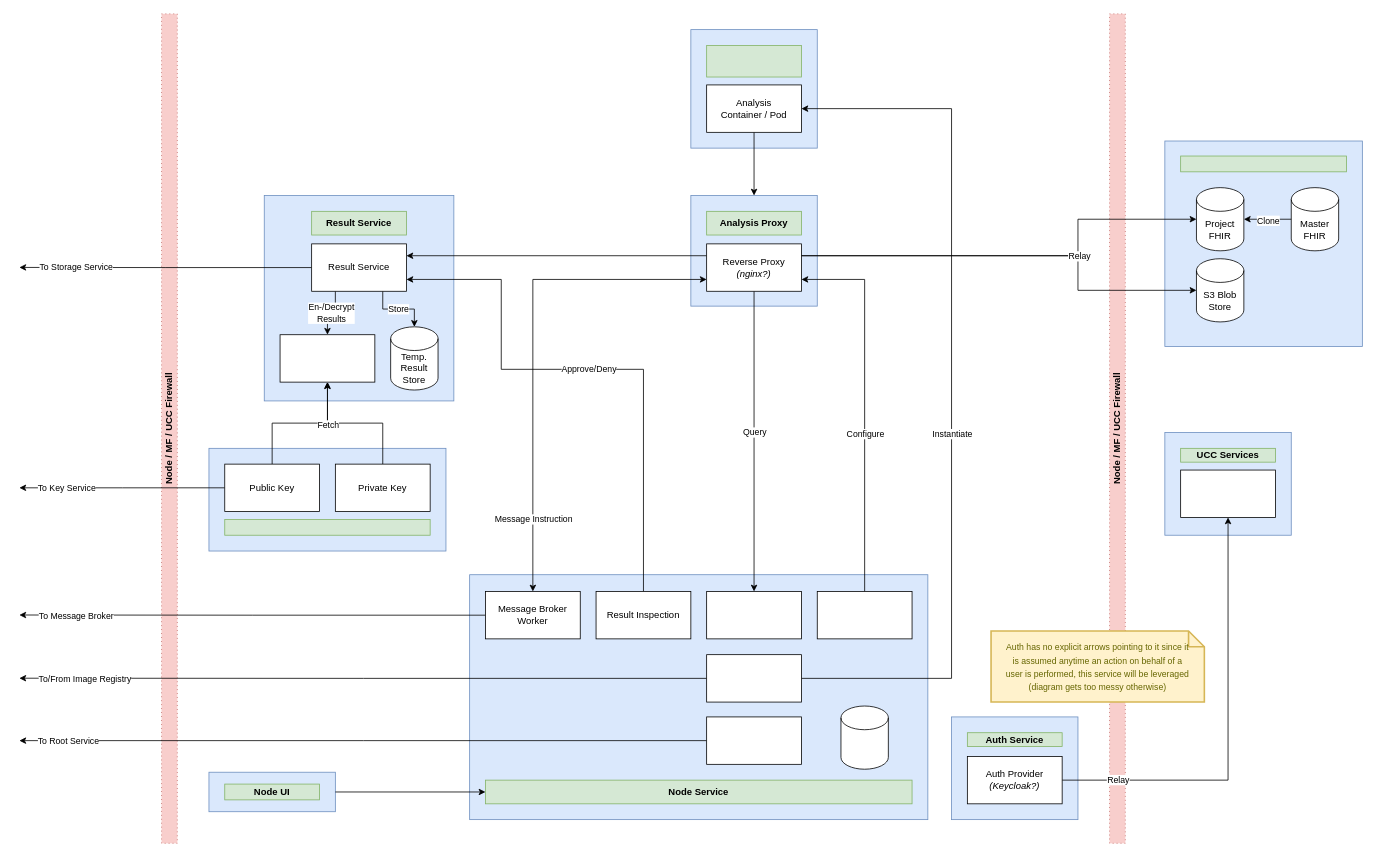
This 1376x857 diagram has some shape labels left out. Each missing label, with the centre of its shape:
"Analysis Runtime" belongs at (753,61).
"Analysis Service (meta information)" belongs at (753,615).
"Auth Provider" belongs at (1227,493).
"Container / Pod Orchestration" belongs at (753,678).
"Data Source Management" belongs at (864,615).
"DIC Services" belongs at (1263,163).
"Node Resources (Analysis ...)" belongs at (753,740).
"Node Store" belongs at (864,737).
"Private/Public Keypair" belongs at (327,358).
"Secret Storage (Vault?)" belongs at (327,527).
